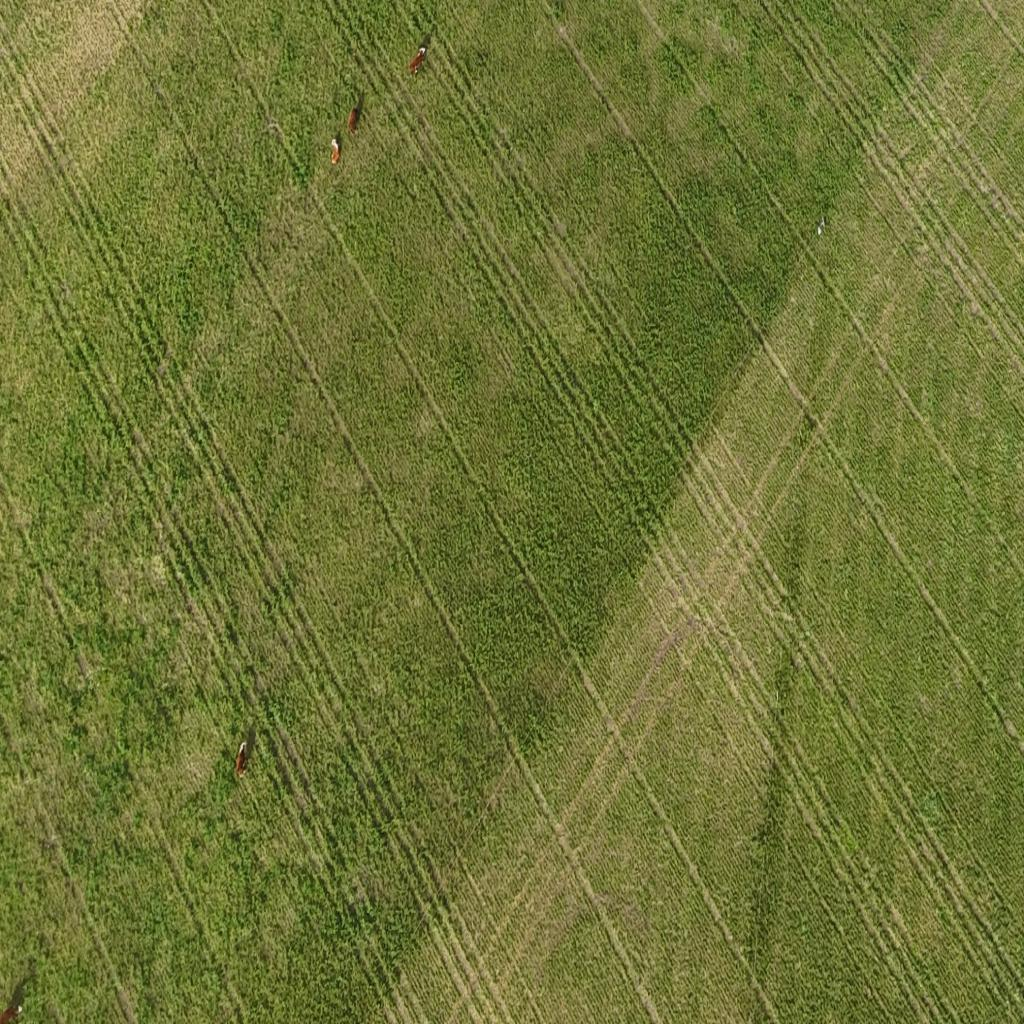cow: (407, 44, 427, 76), (0, 1000, 26, 1024), (236, 741, 247, 778), (348, 104, 358, 136), (332, 132, 342, 161)
